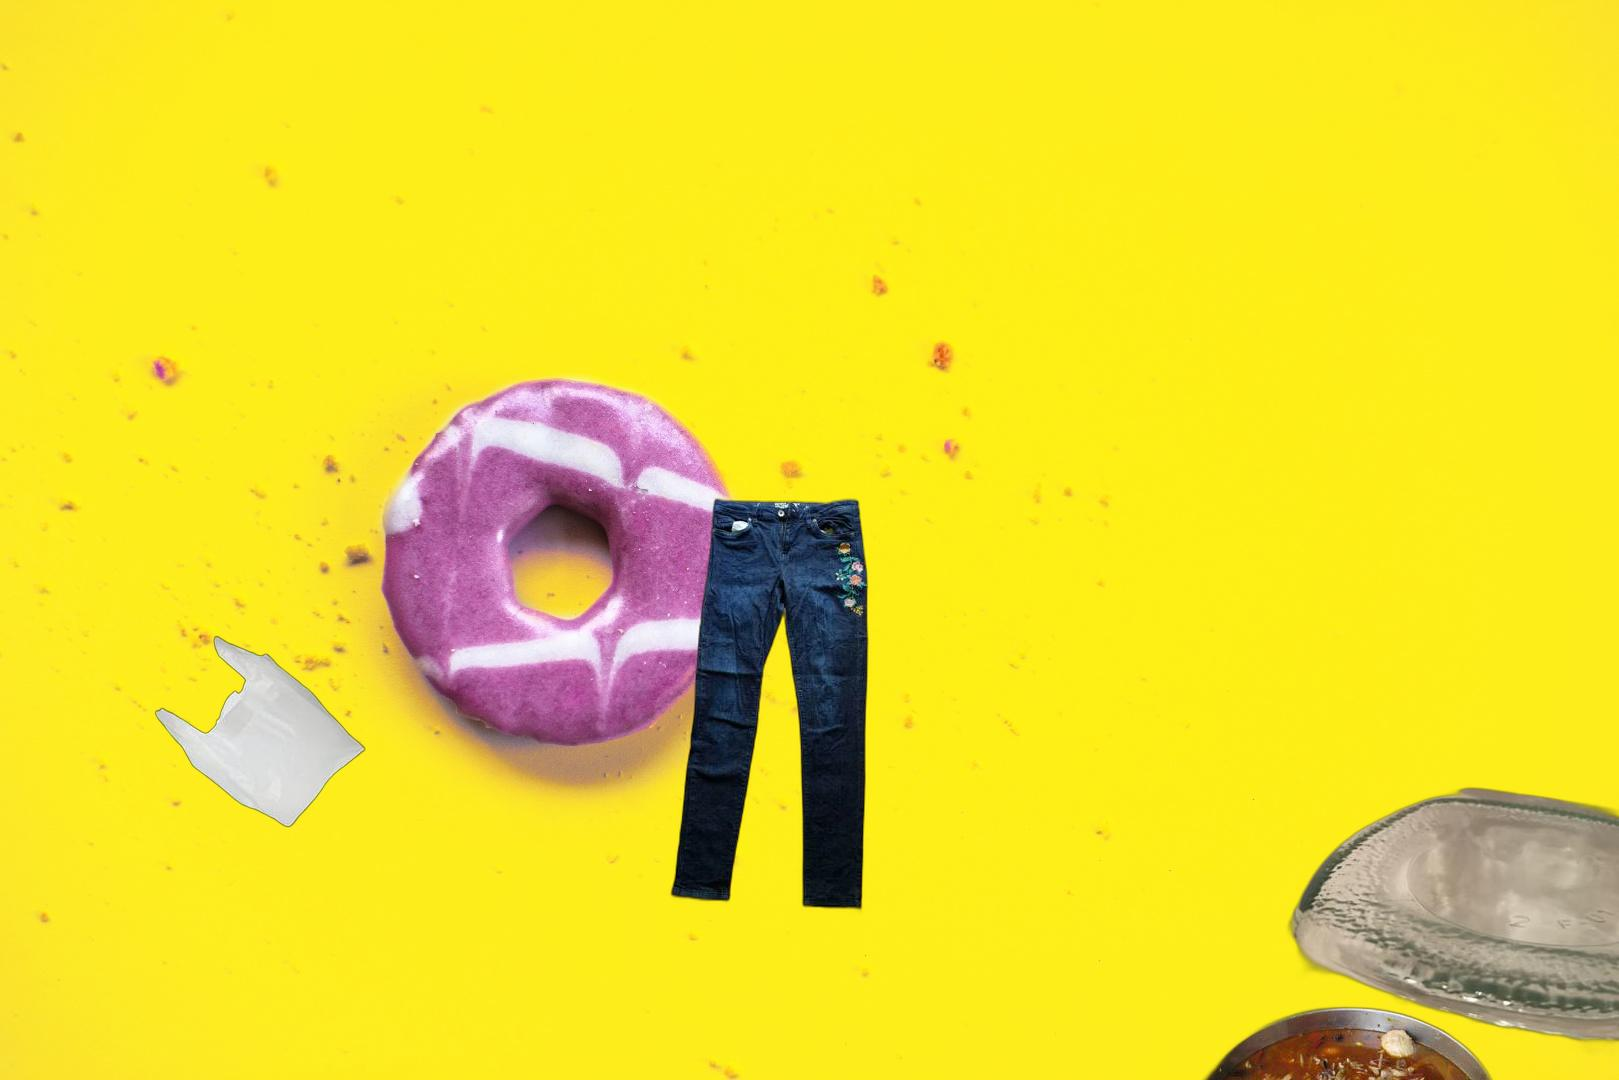biological: (1186, 1003, 1509, 1080)
clothes: (668, 494, 872, 917)
glass: (1267, 783, 1619, 1080)
plastic-bag: (153, 633, 366, 830)
